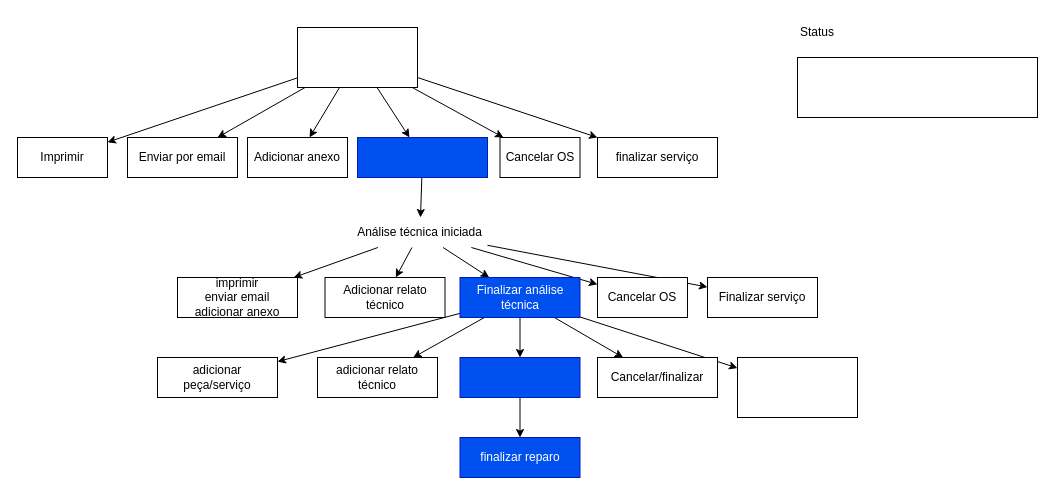
The diagram is 1055 pixels wide and 495 high, and some of its shapes have lost their labels. The centre of each missing label's shape, as x and y in pixels:
Aguardando análise técnica Em análise técnica: point (917, 87)
Imprimir email anexo: point (797, 387)
Iniciar análise técnica: point (422, 157)
Iniciar reparo: point (519, 377)
Nova OS: point (357, 57)
